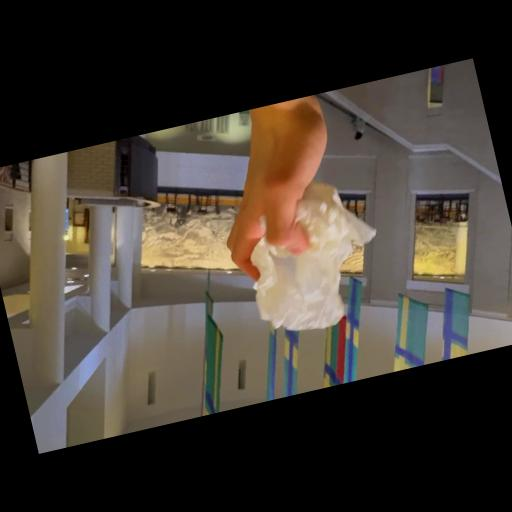napkin: (230, 174, 397, 346)
